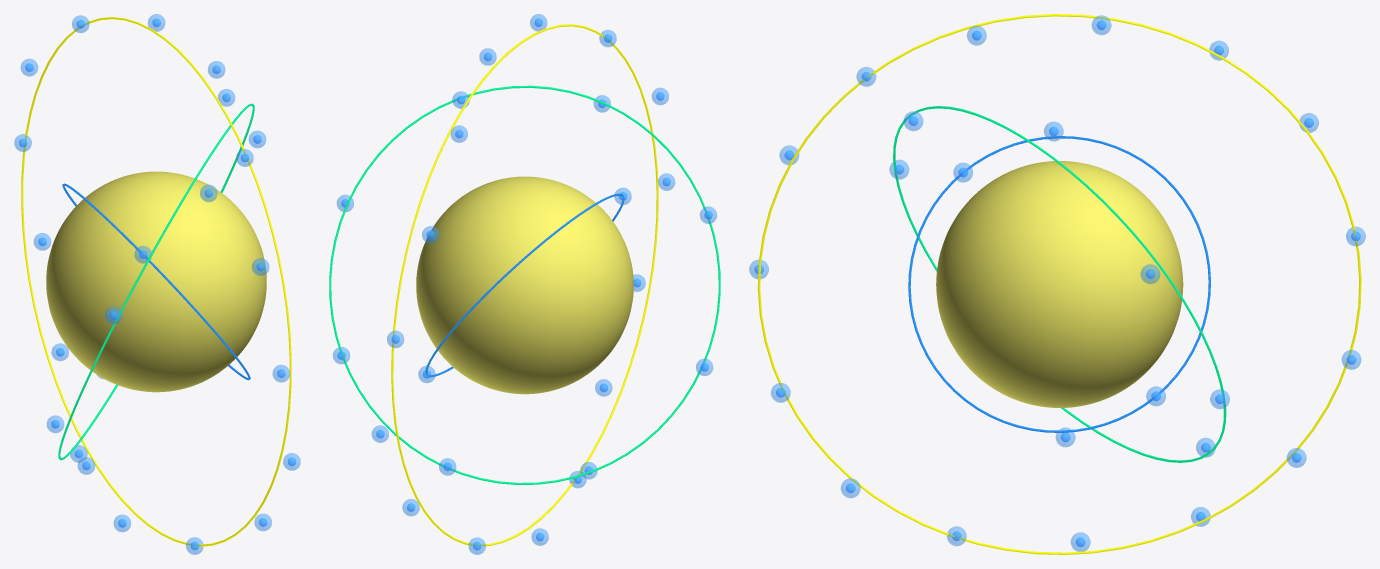
The picture shows the model from 3 angles, left to right: view 1: azimuth 30°, elevation 25°; view 2: azimuth 150°, elevation 25°; view 3: azimuth 270°, elevation 25°; orthographic projection. The views are drawn at different scales.
Parts seen in each view (by area): view 1: Mn, object 24, object 7, object 2; view 2: Mn, object 24, object 7, object 2; view 3: Mn, object 24, object 2, object 7.
Boxes of the visible parts, left/top/right/bottom form: Mn: left=46, top=171, right=266, bottom=392; object 24: left=21, top=17, right=291, bottom=546; object 7: left=58, top=103, right=254, bottom=460; object 2: left=62, top=183, right=250, bottom=380; Mn: left=416, top=176, right=633, bottom=394; object 24: left=391, top=24, right=658, bottom=546; object 7: left=329, top=85, right=720, bottom=484; object 2: left=425, top=193, right=624, bottom=377; Mn: left=936, top=161, right=1183, bottom=407; object 24: left=757, top=14, right=1361, bottom=554; object 2: left=908, top=136, right=1210, bottom=432; object 7: left=893, top=106, right=1226, bottom=462.
Bounding box in the file's own units: 3.08 × 4.92 × 4.92.
